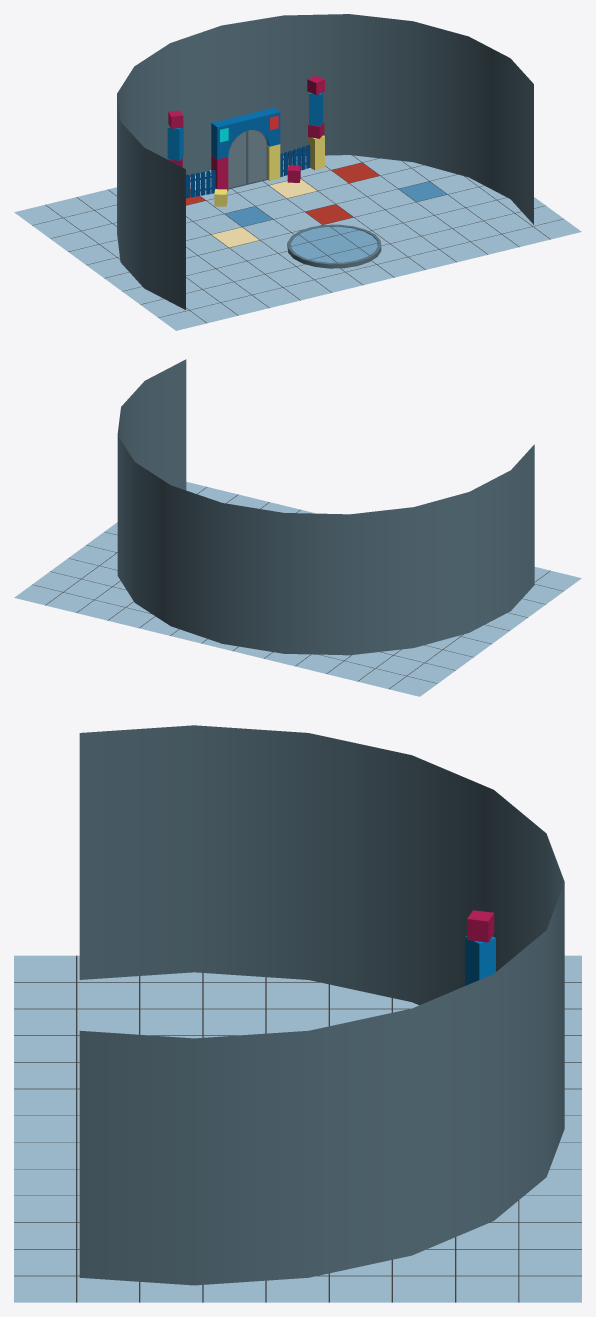
File: Base_map.fbx
3 views of the same model, one above another, from view 1: azimuth 30°, elevation 25°; view 2: azimuth 150°, elevation 25°; view 3: azimuth 270°, elevation 25° (orthographic). The views are drawn at different scales.
Visible parts, largest first — view 1: base_2, base_1; view 2: base_2; view 3: base_2.
Boxes of the visible parts, <box> form: base_2: <box>14,14,581,330</box>; base_1: <box>287,224,381,268</box>; base_2: <box>14,359,581,696</box>; base_2: <box>14,725,581,1302</box>.
Bounding box in the file's own units: 11412 × 4006 × 7892.
